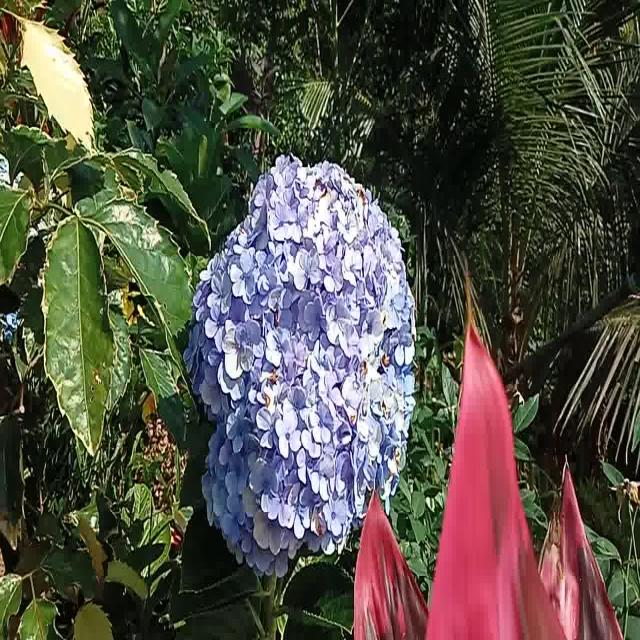Flower: (199, 146, 420, 573)
